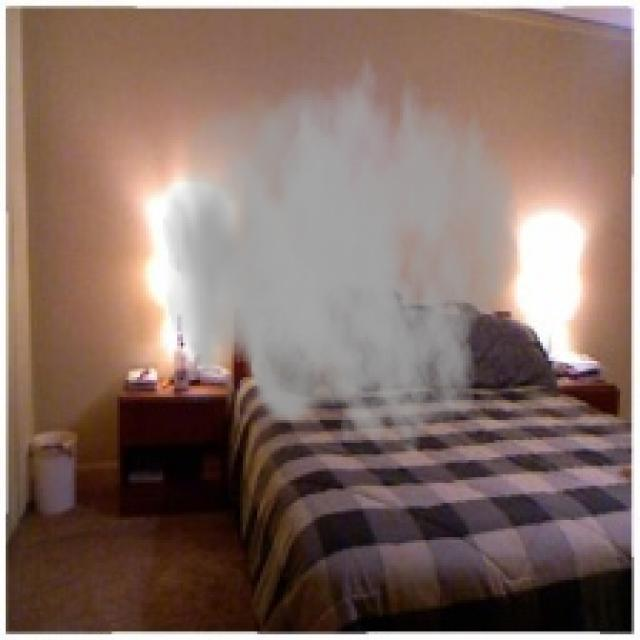Smoke: (163, 34, 520, 460)
